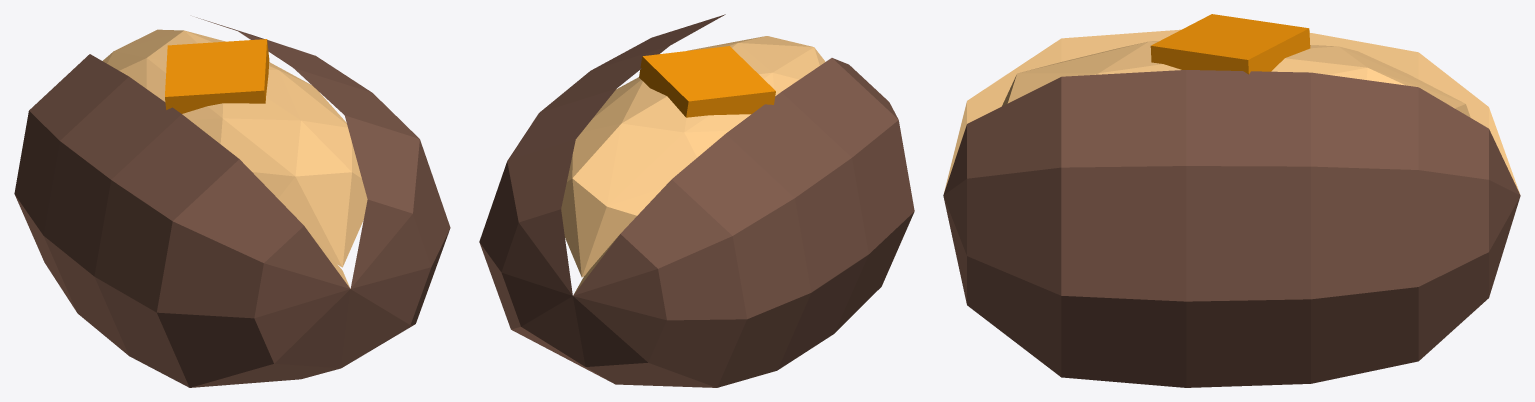
The model's file is 9b84dfe0-5724-4933-bf2c-85d6a34cb062.glb.
The picture shows the model from 3 angles, left to right: view 1: azimuth 30°, elevation 25°; view 2: azimuth 150°, elevation 25°; view 3: azimuth 270°, elevation 25°; orthographic projection. The views are drawn at different scales.
Parts seen in each view (by area): view 1: Circle; view 2: Circle; view 3: Circle.
Boxes of the visible parts, x1,y1,x2,y2 form: Circle: [14, 17, 450, 387]; Circle: [479, 14, 914, 387]; Circle: [943, 14, 1520, 387].
Bounding box in the file's own units: 11.84 × 9.97 × 16.51.
